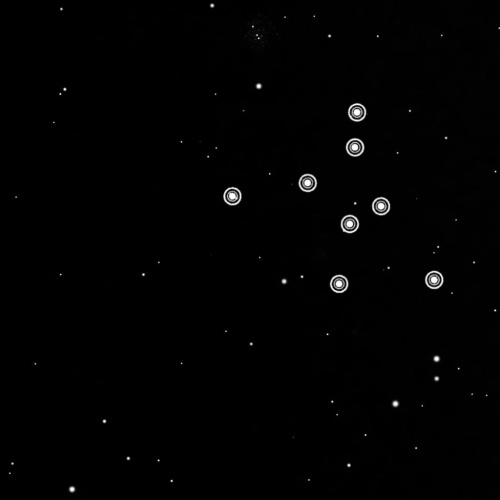hercules: (218, 98, 449, 294)
